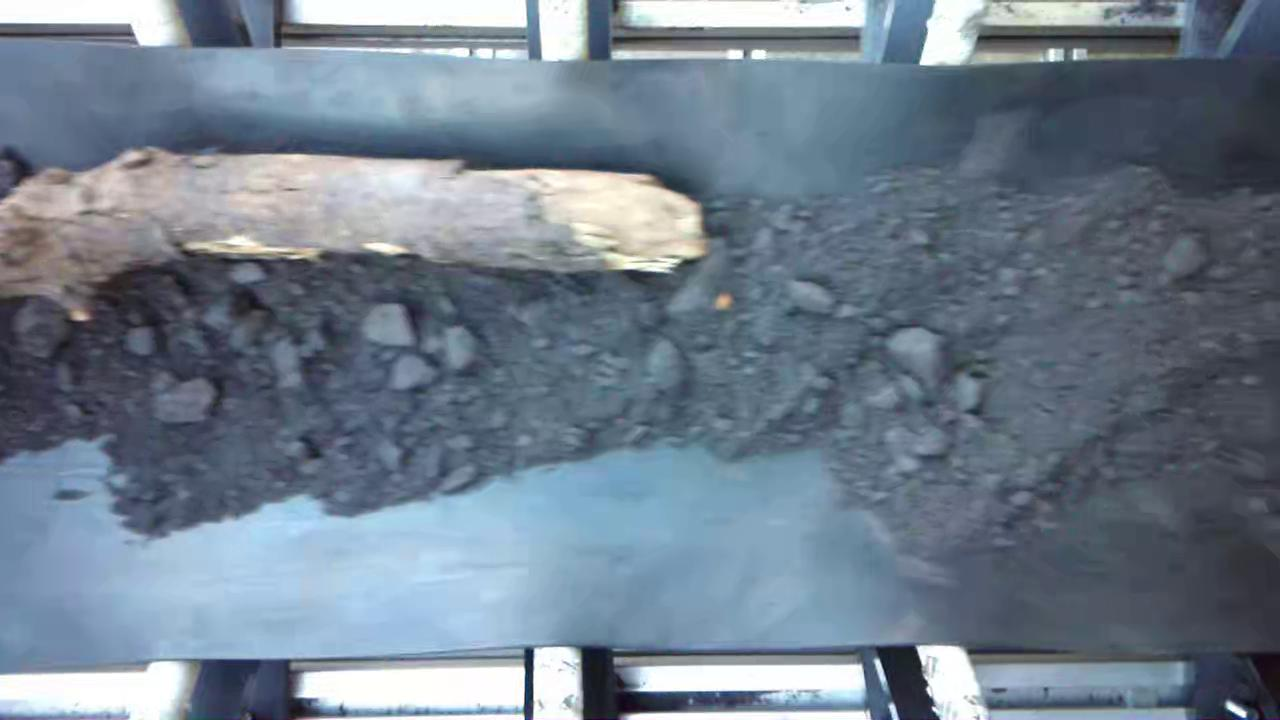conveyor: (8, 69, 1274, 630)
